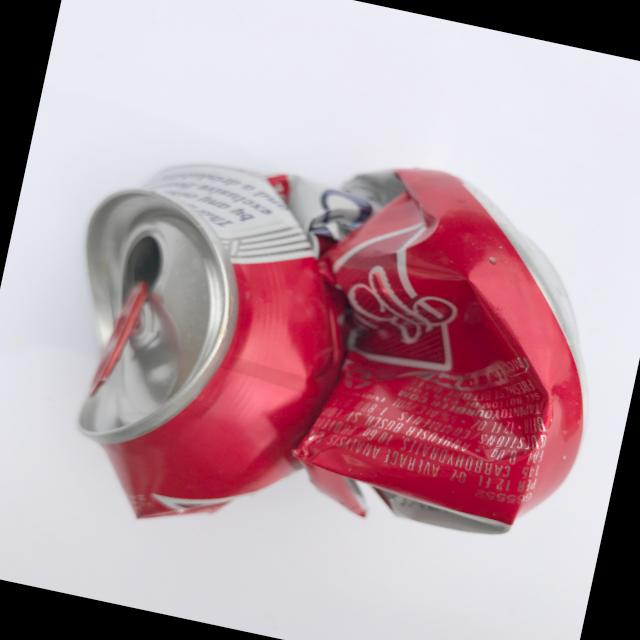Metal: (13, 88, 634, 612)
